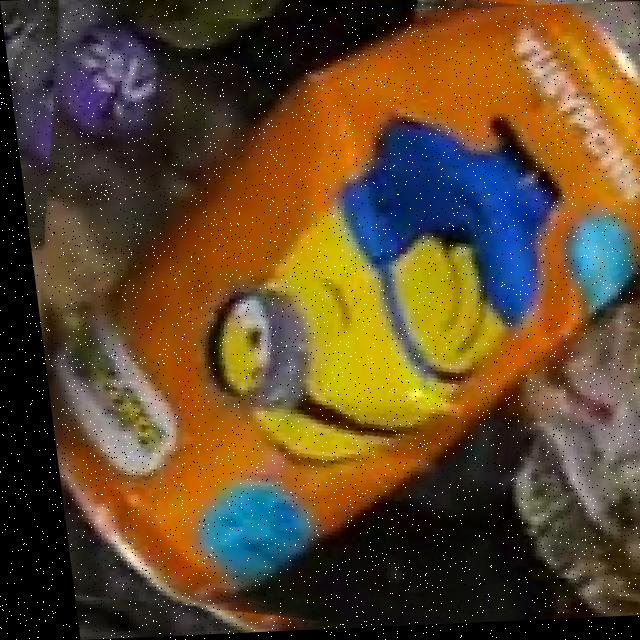can: (39, 9, 640, 607)
